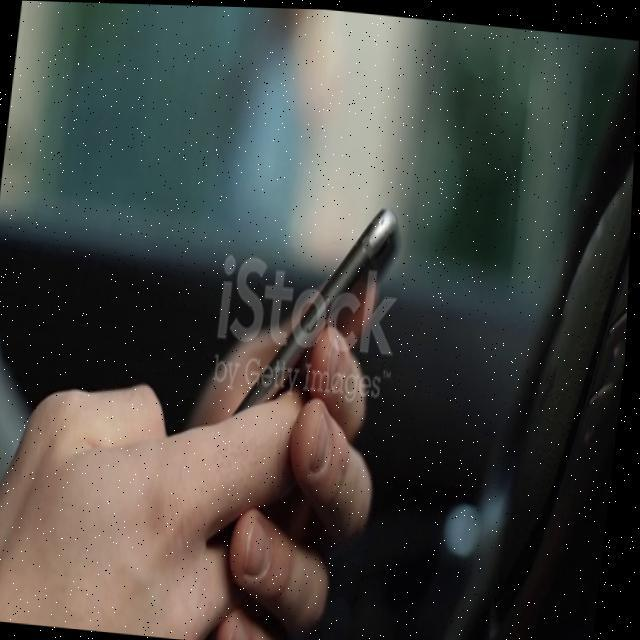PhoneCall: (234, 188, 409, 436)
